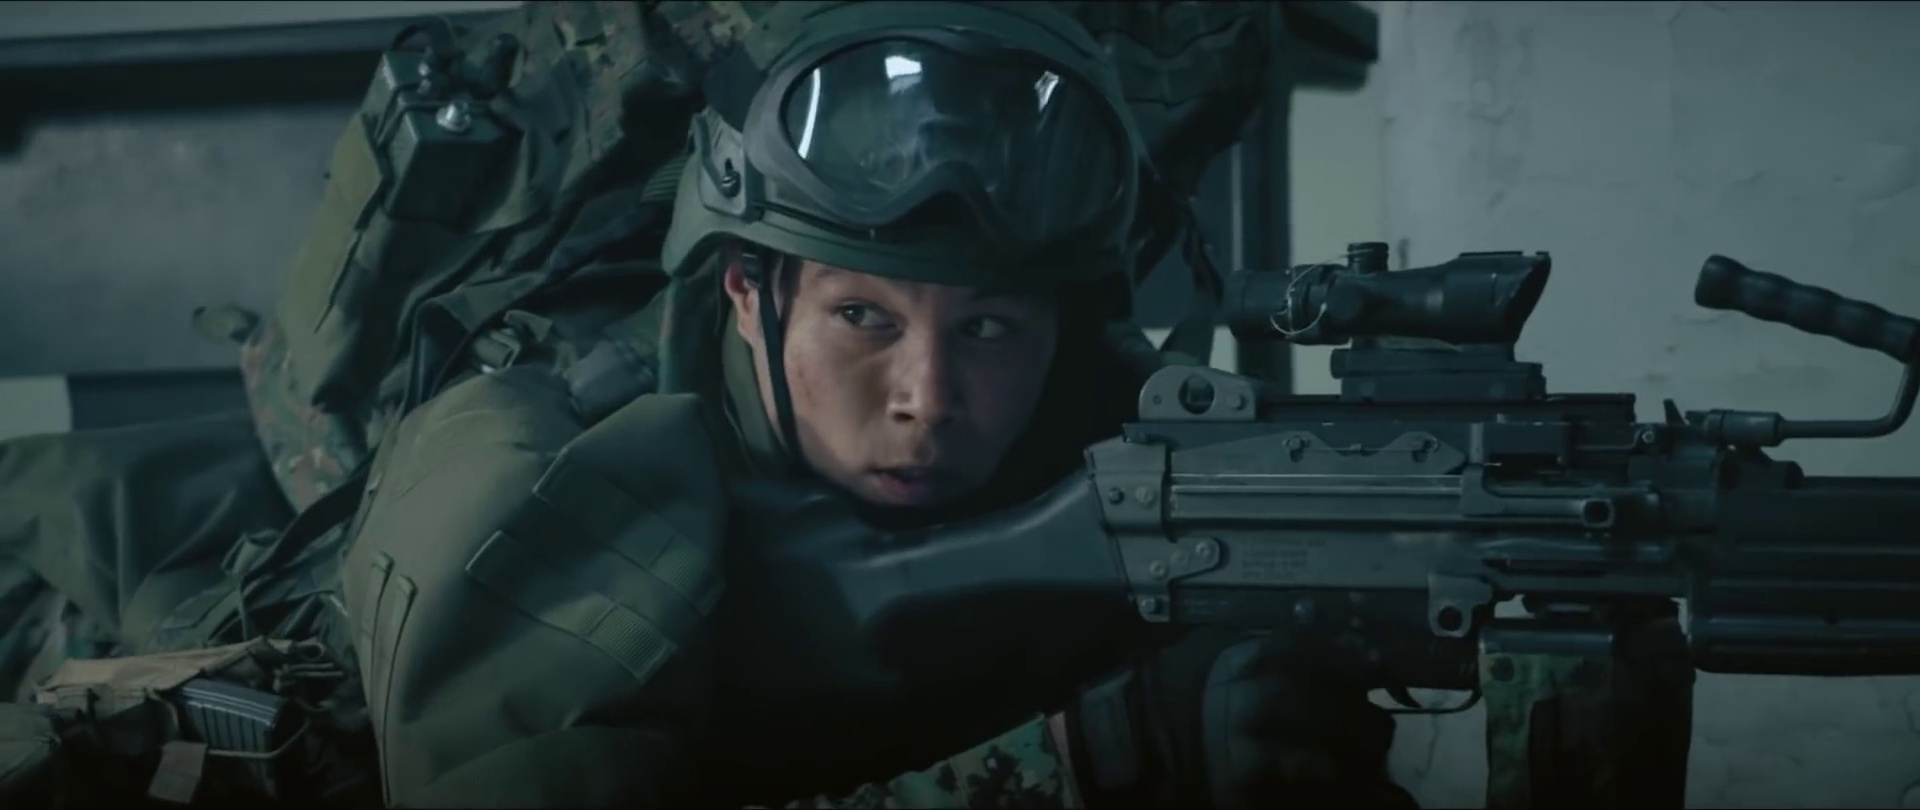gun: (704, 185, 1920, 810)
p_w_gun: (339, 10, 1920, 810)
